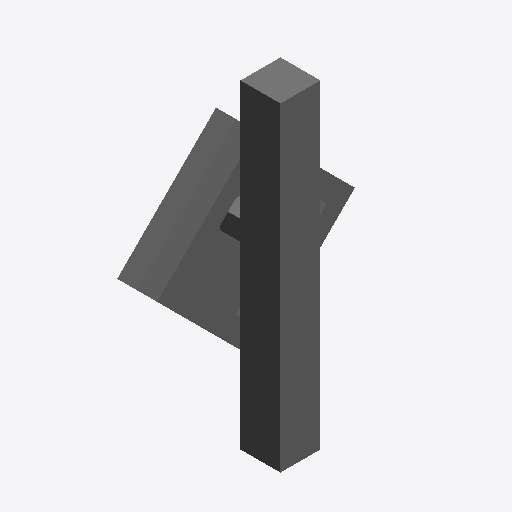
A Minecraft block model of 7 cuboids, rendered isometrically (azimuth 45°, elevation 35.3°) with the resource pack's own textures.
Visible parts, largest first — element 7, element 2, element 6, element 5, element 3, element 1.
Boxes of the visible parts, box(x1,y1,x2,y2) form: element 7: box(240, 57, 319, 472); element 2: box(117, 108, 239, 314); element 6: box(151, 119, 239, 284); element 5: box(137, 266, 239, 348); element 3: box(236, 180, 354, 316); element 1: box(220, 196, 239, 240).
Size of the model in its own units: 9.9 by 16 by 4.